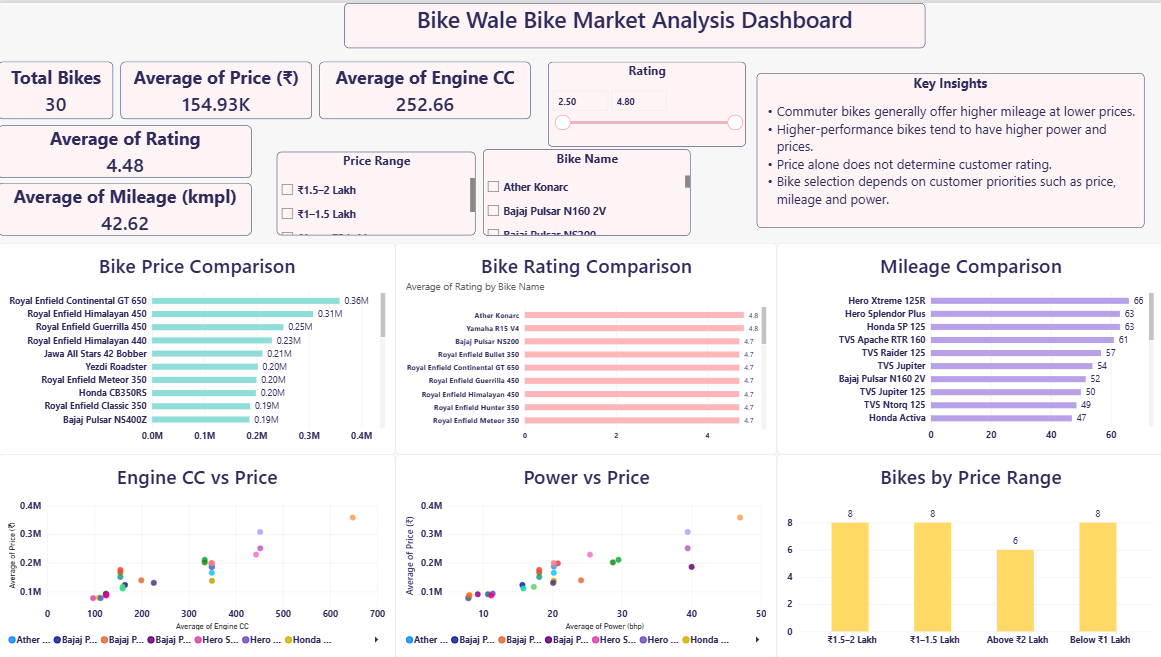

Layout of this report page (visuals, bound fields, positions):
{"tool":"powerbi","page":{"name":"Page 1","canvas":[1920,1080],"ordinal":0},"visuals":[{"type":"cardVisual","fields":{"Data":["BikeWale_Cleaned_Dataset.Total Bikes"]},"box":[0,119.4,232.6,94.7],"z":0},{"type":"cardVisual","fields":{"Data":["Avg(BikeWale_Cleaned_Dataset.Price (₹))"]},"box":[247,119.4,240.8,94.7],"z":1},{"type":"cardVisual","fields":{"Data":["Avg(BikeWale_Cleaned_Dataset.Rating)"]},"box":[0,232.6,232.6,86.4],"z":2},{"type":"cardVisual","fields":{"Data":["Avg(BikeWale_Cleaned_Dataset.Mileage (kmpl))"]},"box":[247,232.6,240.8,86.4],"z":3},{"type":"cardVisual","fields":{"Data":["Avg(BikeWale_Cleaned_Dataset.Engine CC)"]},"box":[508.4,119.4,244.9,94.7],"z":4},{"type":"clusteredBarChart","title":"Bike Price Comparison","fields":{"Category":["BikeWale_Cleaned_Dataset.Bike Name"],"Y":["Avg(BikeWale_Cleaned_Dataset.Price (₹))"]},"box":[0,395.2,654.5,349.9],"z":5},{"type":"clusteredBarChart","title":"Bike Rating Comparison","fields":{"Category":["BikeWale_Cleaned_Dataset.Bike Name"],"Y":["Avg(BikeWale_Cleaned_Dataset.Rating)"]},"box":[654.5,395.2,627.8,347.9],"z":6},{"type":"clusteredBarChart","title":"Mileage Comparison","fields":{"Category":["BikeWale_Cleaned_Dataset.Bike Name"],"Y":["Avg(BikeWale_Cleaned_Dataset.Mileage (kmpl))"]},"box":[1282.3,395.2,638.1,347.9],"z":7},{"type":"scatterChart","title":"Engine CC vs Price","fields":{"Series":["BikeWale_Cleaned_Dataset.Bike Name"],"X":["Avg(BikeWale_Cleaned_Dataset.Engine CC)"],"Y":["Avg(BikeWale_Cleaned_Dataset.Price (₹))"]},"box":[0,743.1,654.5,337.6],"z":8},{"type":"scatterChart","title":"Power vs Price","fields":{"Series":["BikeWale_Cleaned_Dataset.Bike Name"],"X":["Avg(BikeWale_Cleaned_Dataset.Power (bhp))"],"Y":["Avg(BikeWale_Cleaned_Dataset.Price (₹))"]},"box":[654.5,743.1,627.8,337.6],"z":9},{"type":"clusteredColumnChart","title":"Bikes by Price Range","fields":{"Category":["BikeWale_Cleaned_Dataset.Price Range"],"Y":["CountNonNull(BikeWale_Cleaned_Dataset.Bike Name)"]},"box":[1282.3,743.1,638.1,337.6],"z":10},{"type":"slicer","title":"Bike Name","fields":{"Values":["BikeWale_Cleaned_Dataset.Bike Name"]},"box":[862.4,244.9,341.7,142],"z":11},{"type":"slicer","title":"Price Range","fields":{"Values":["BikeWale_Cleaned_Dataset.Price Range"]},"box":[508.4,247,327.3,140],"z":12},{"type":"slicer","title":"Rating","fields":{"Values":["BikeWale_Cleaned_Dataset.Rating"]},"box":[769.8,96.7,325.2,140],"z":13},{"type":"textbox","box":[570.2,0,957.1,74.1],"z":14},{"type":"textbox","box":[1249.4,115.3,638.1,255.2],"z":15}]}

Visuals, with their boxes in screenshot pixels (x1, y1, x2, y2), scaled from the page's 1920x1080 canvas onto the 1161x657 screenshot:
cardVisual - BikeWale_Cleaned_Dataset.Total Bikes: BBox(0, 73, 141, 130)
cardVisual - Avg(BikeWale_Cleaned_Dataset.Price (₹)): BBox(149, 73, 295, 130)
cardVisual - Avg(BikeWale_Cleaned_Dataset.Rating): BBox(0, 141, 141, 194)
cardVisual - Avg(BikeWale_Cleaned_Dataset.Mileage (kmpl)): BBox(149, 141, 295, 194)
cardVisual - Avg(BikeWale_Cleaned_Dataset.Engine CC): BBox(307, 73, 456, 130)
"Bike Price Comparison" clusteredBarChart: BBox(0, 240, 396, 453)
"Bike Rating Comparison" clusteredBarChart: BBox(396, 240, 775, 452)
"Mileage Comparison" clusteredBarChart: BBox(775, 240, 1160, 452)
"Engine CC vs Price" scatterChart: BBox(0, 452, 396, 656)
"Power vs Price" scatterChart: BBox(396, 452, 775, 656)
"Bikes by Price Range" clusteredColumnChart: BBox(775, 452, 1160, 656)
"Bike Name" slicer: BBox(521, 149, 728, 235)
"Price Range" slicer: BBox(307, 150, 505, 235)
"Rating" slicer: BBox(465, 59, 662, 144)
textbox: BBox(345, 0, 924, 45)
textbox: BBox(755, 70, 1141, 225)
